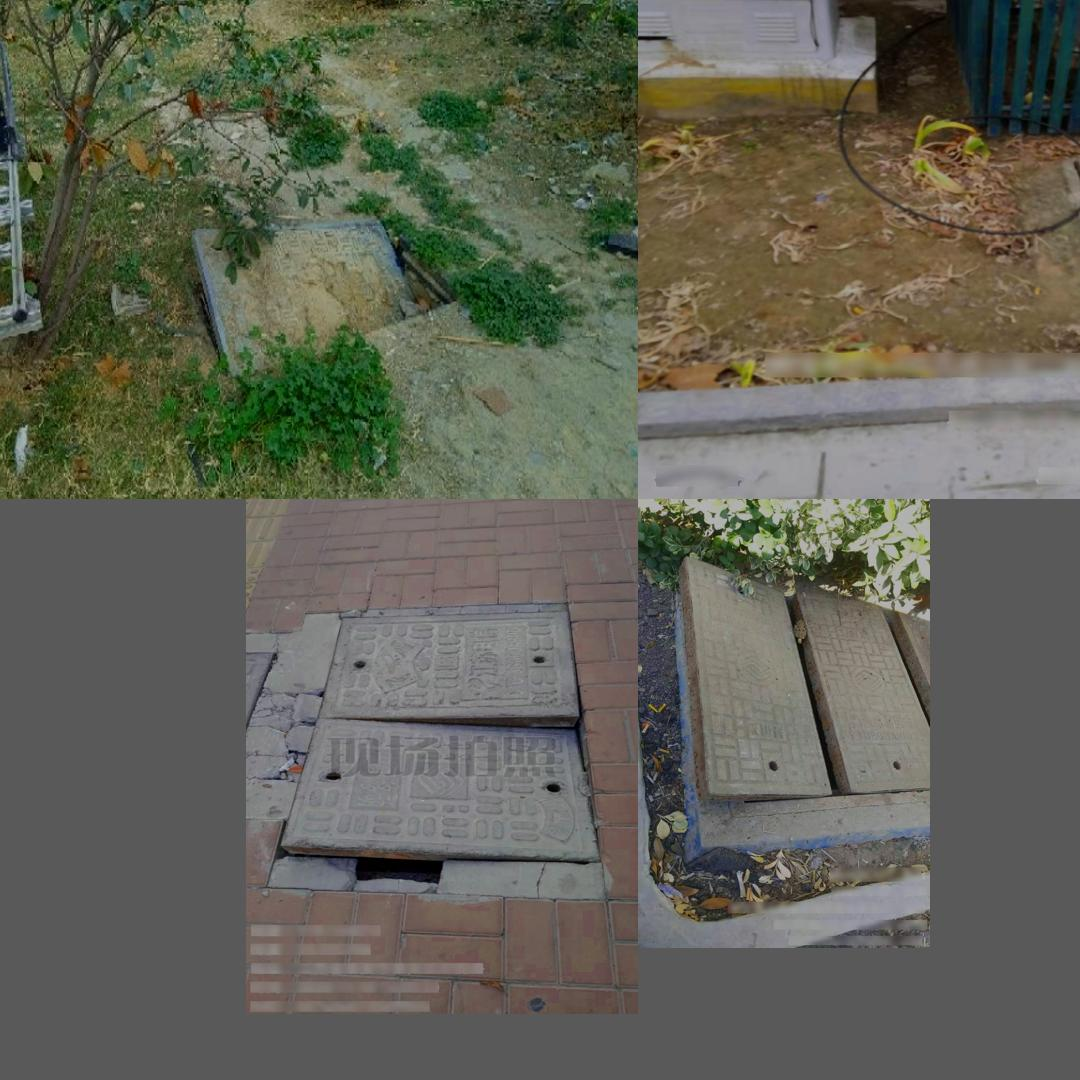uncovered: (273, 603, 602, 878), (677, 552, 929, 806), (161, 192, 458, 371), (1067, 152, 1080, 286)
